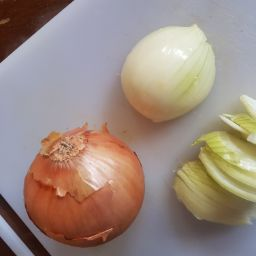Medium chopped onions: (4, 20, 256, 247), (13, 118, 162, 245), (107, 18, 220, 125), (157, 141, 256, 242), (206, 98, 256, 235)
